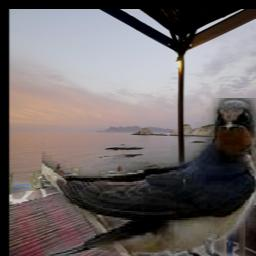Swallow: (42, 99, 256, 256)
